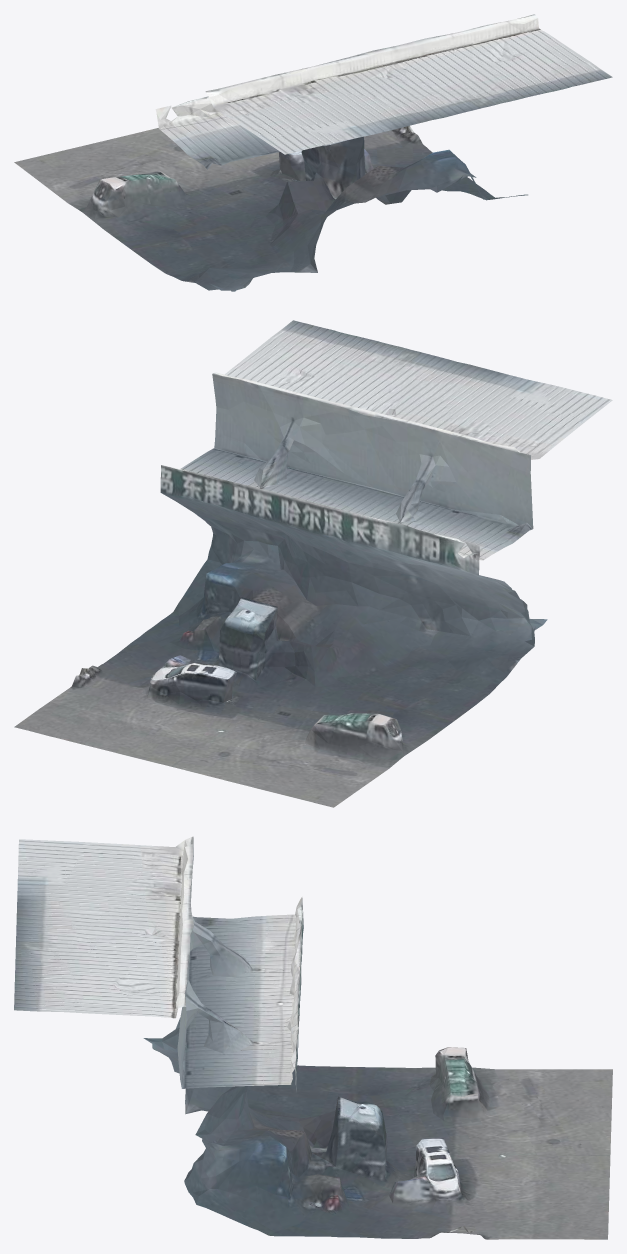
The model's file is Tile_+005_+007_L20_0uuuu01.glb.
3 views of the same model, one above another, from view 1: azimuth 30°, elevation 25°; view 2: azimuth 150°, elevation 25°; view 3: azimuth 270°, elevation 25° (orthographic). The views are drawn at different scales.
Visible parts, largest first — view 1: rtc; view 2: rtc; view 3: rtc.
Part boxes in pixels (box(x1,y1,x2,y2)): rtc: box(14, 14, 612, 291); rtc: box(14, 320, 612, 807); rtc: box(14, 836, 612, 1239).
Bounding box in the file's own units: 21.36 × 13.33 × 31.11.
Materials: 3 (3 with a texture image).
